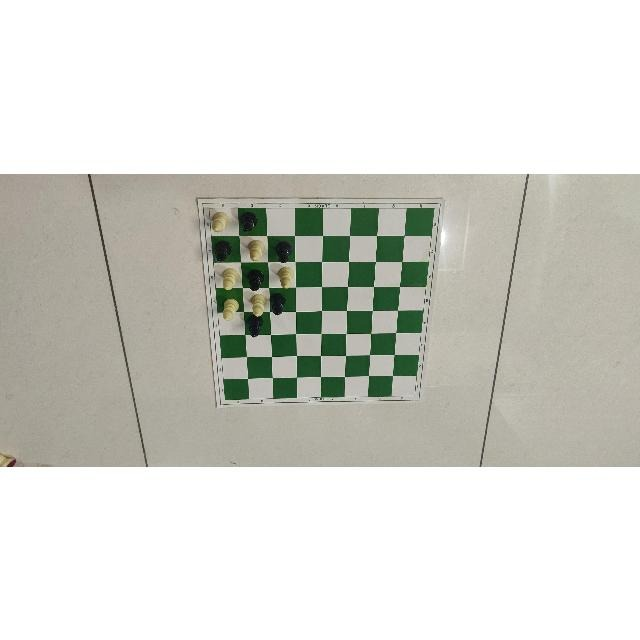black-bishop: (213, 240, 232, 262), (275, 240, 293, 263), (247, 268, 265, 291), (270, 292, 286, 316), (248, 314, 264, 338), (242, 210, 258, 232)
white-bishop: (221, 267, 240, 290), (222, 296, 240, 320), (211, 210, 229, 233), (277, 265, 295, 288), (249, 238, 265, 261), (251, 293, 267, 316)
